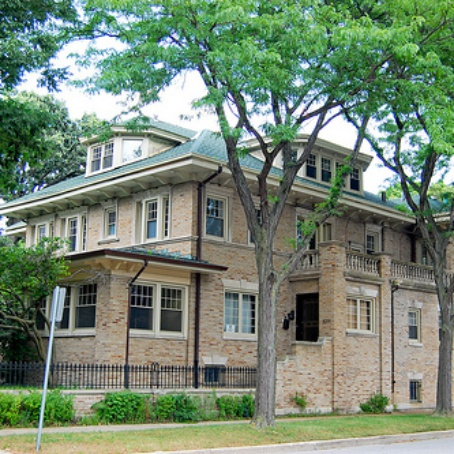building: (30, 128, 452, 413)
tree: (129, 1, 376, 435), (302, 1, 454, 454)
